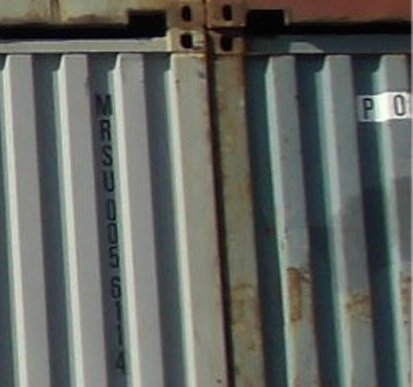container_no_door: (1, 32, 225, 387), (210, 32, 413, 385)
